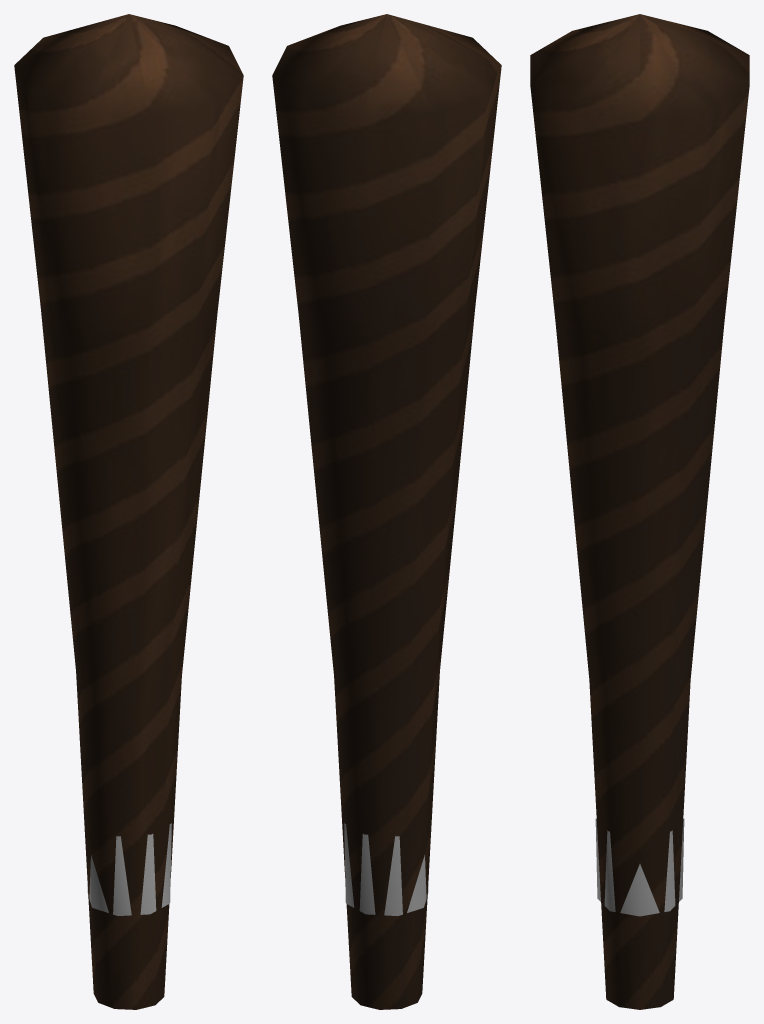
Rendered from massue.glb.
The picture shows the model from 3 angles, left to right: view 1: azimuth 30°, elevation 25°; view 2: azimuth 150°, elevation 25°; view 3: azimuth 270°, elevation 25°; orthographic projection.
Parts seen in each view (by area): view 1: massue; view 2: massue; view 3: massue.
Boxes of the visible parts, <box> form: massue: <box>14,14,243,1009</box>; massue: <box>272,14,501,1009</box>; massue: <box>530,14,749,1009</box>.
Bounding box in the file's own units: 0.26 × 1.22 × 0.2473.
Materials: 1 (1 with a texture image).
